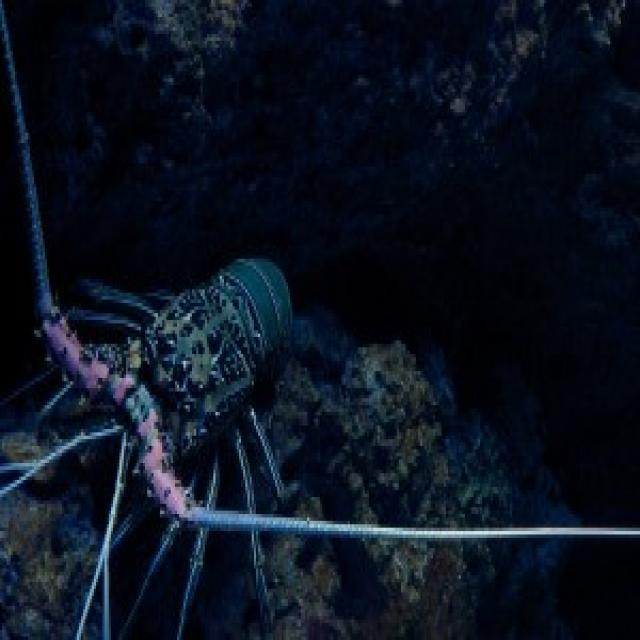lobsters: (0, 77, 472, 640)
